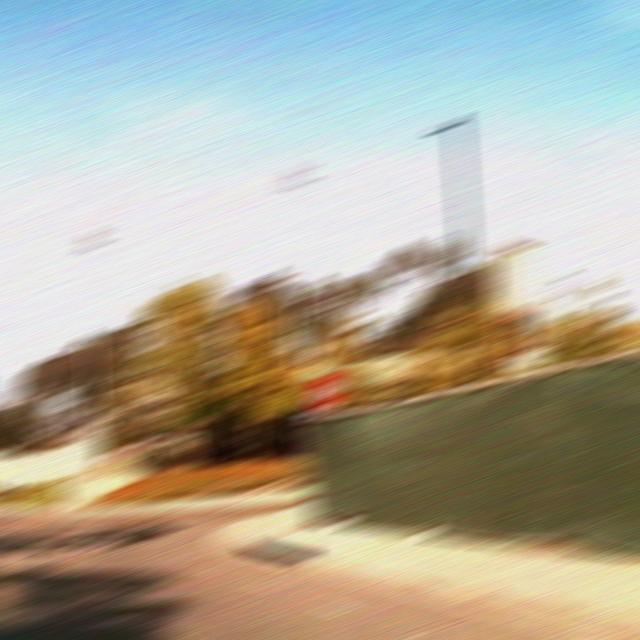stop_sign: (304, 374, 346, 409)
